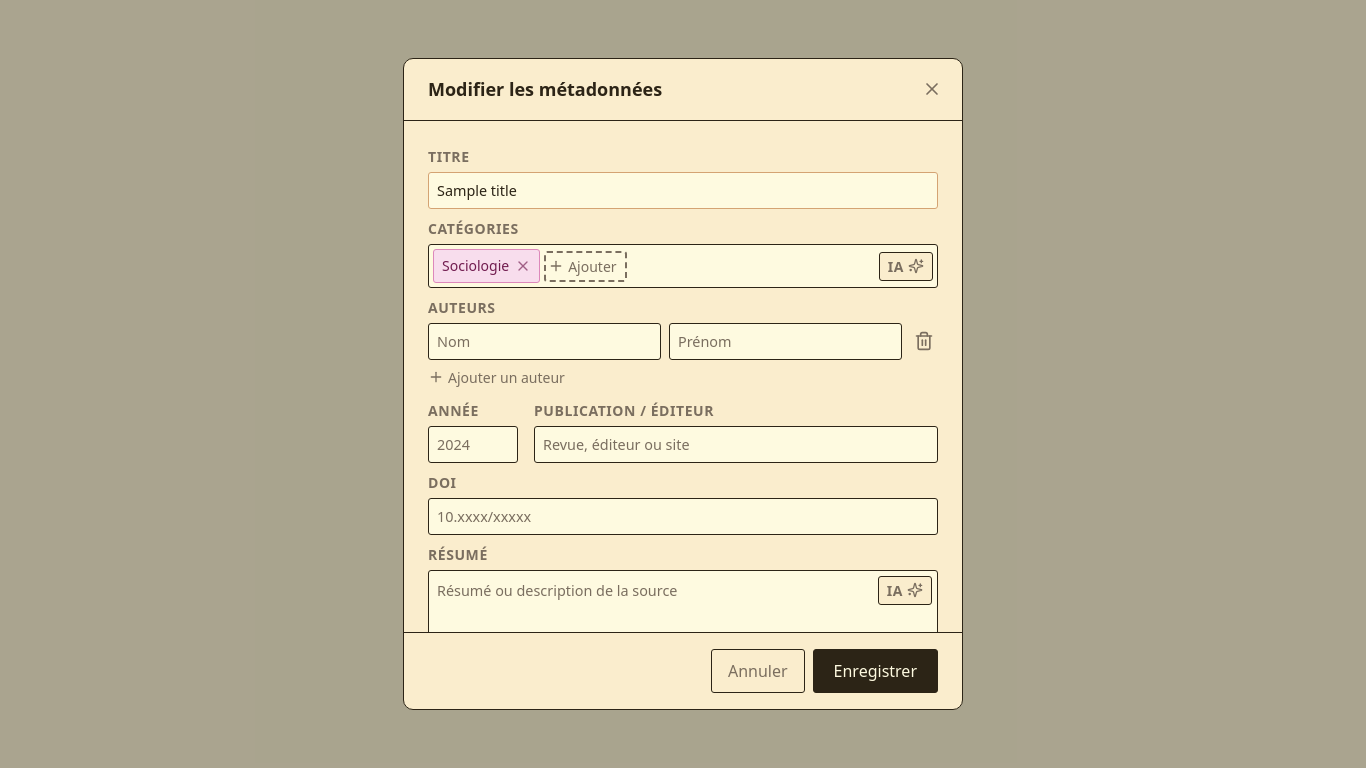
Test: MetadataModal — handleGenerateAbstract › removes a category when its × button is clicked
This screenshot has width=1366, height=768.
Click the button named "supprimer la catégorie sociologie". click: coordinates (523, 266)
box: [515,258,531,274]
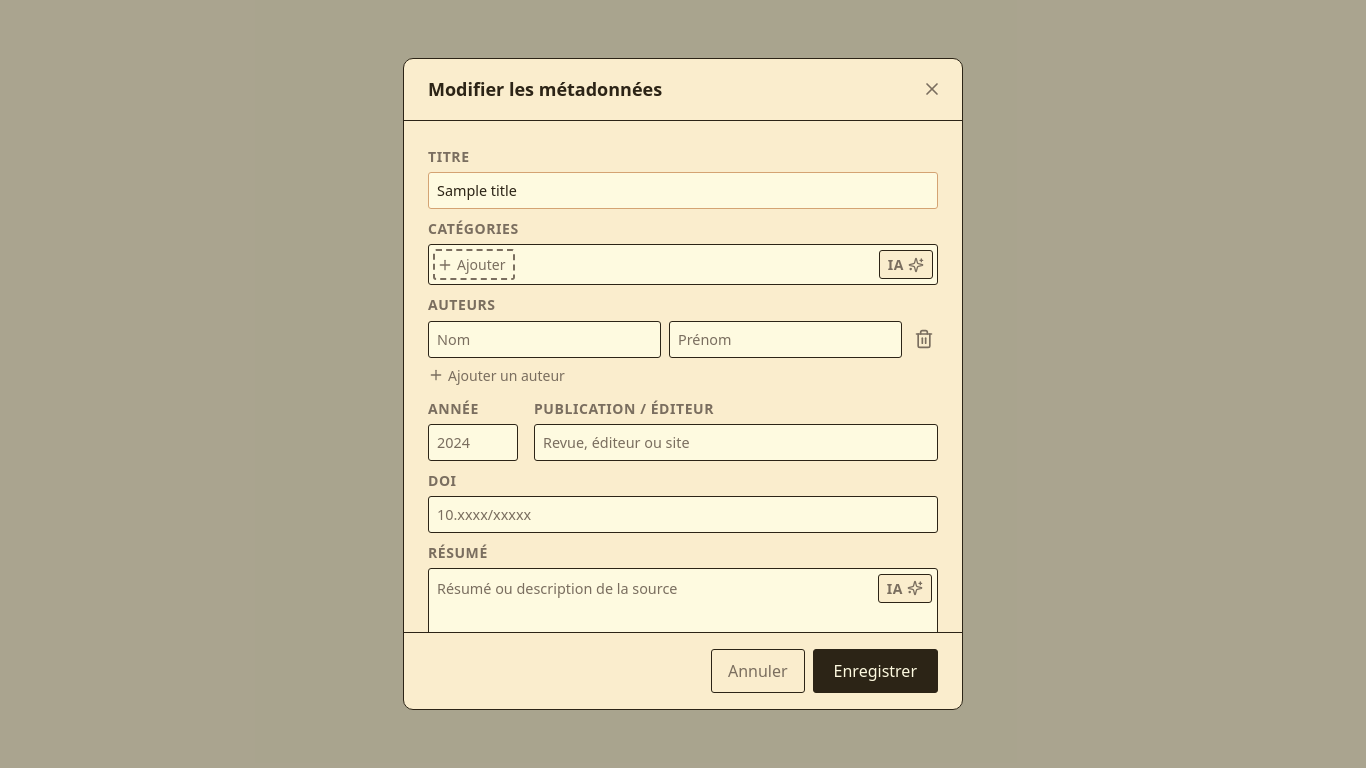
Result: the text "Sociologie" is gone
